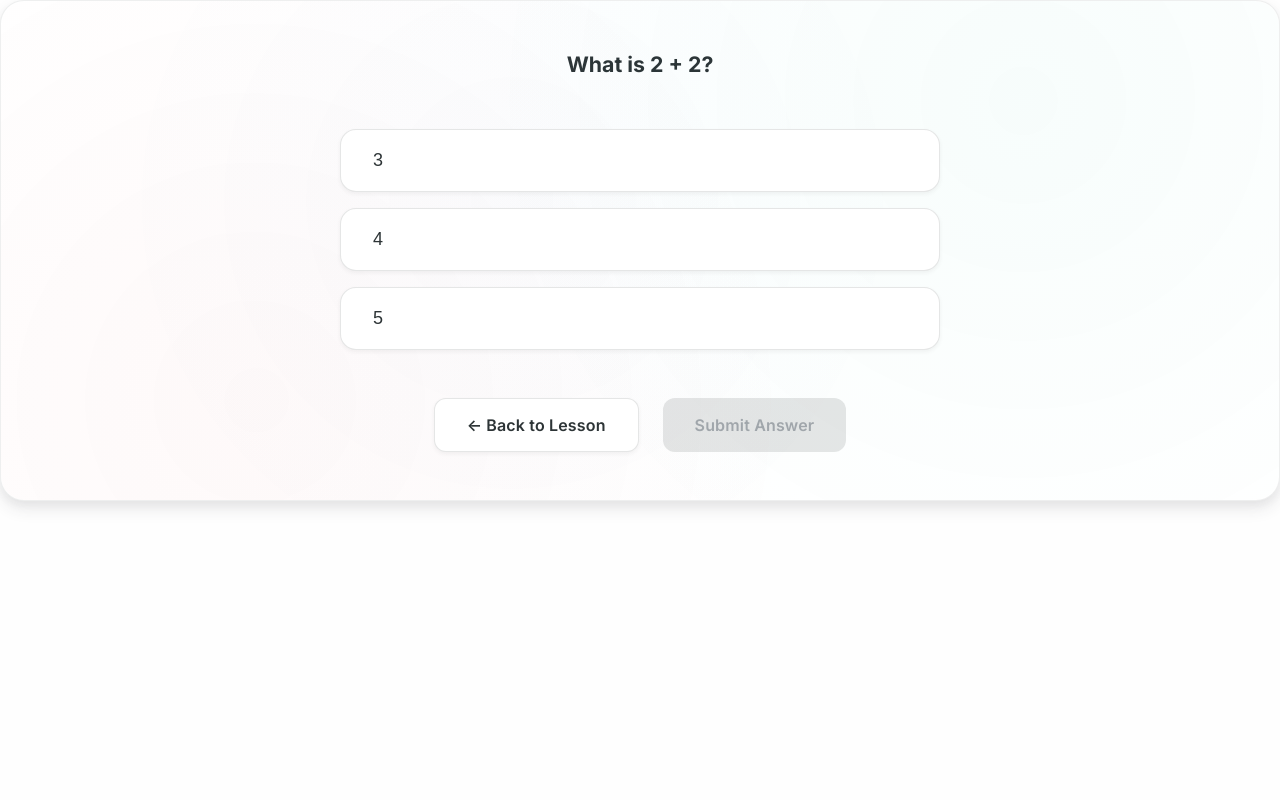
Test: Quiz › should show result when correct answer is submitted
Click the button "4" at (378, 239), box [340,208,940,271]
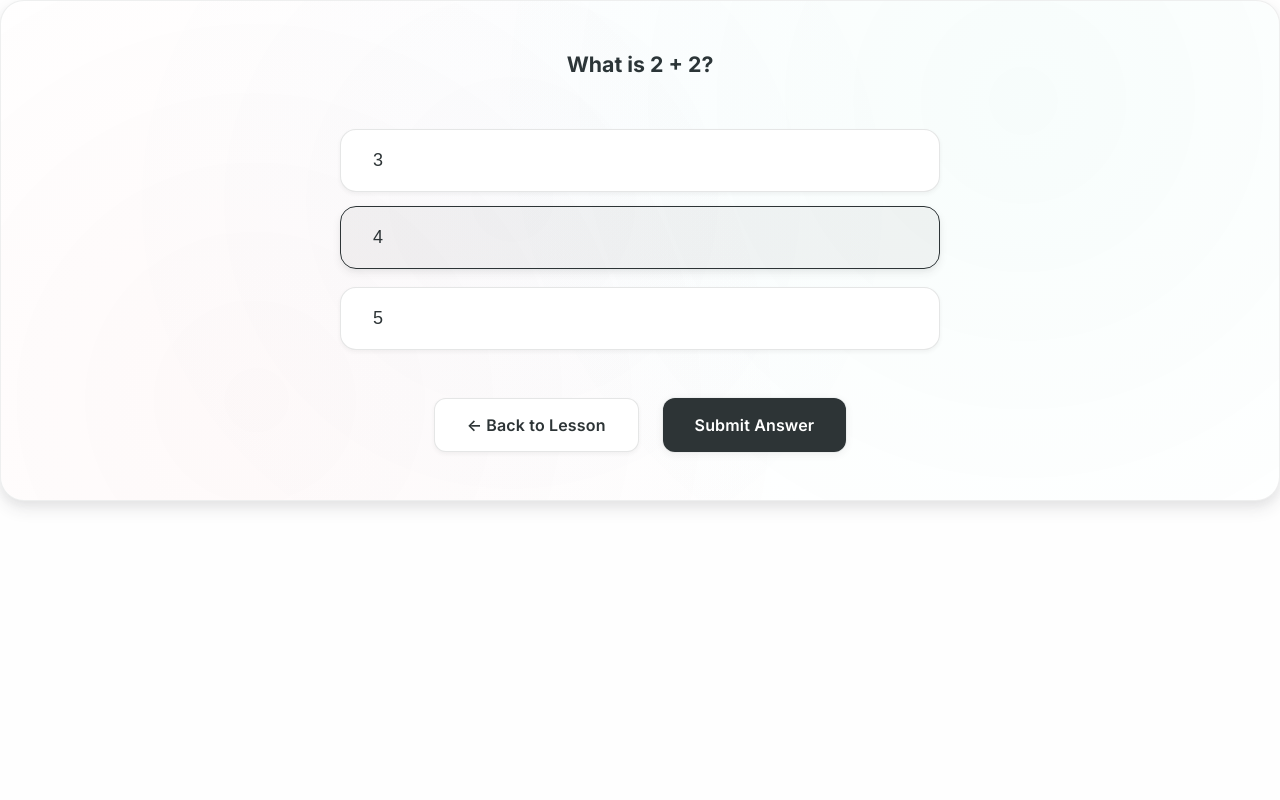
Submit answer
Click the button "Submit Answer" at (754, 425), box [663,398,846,452]
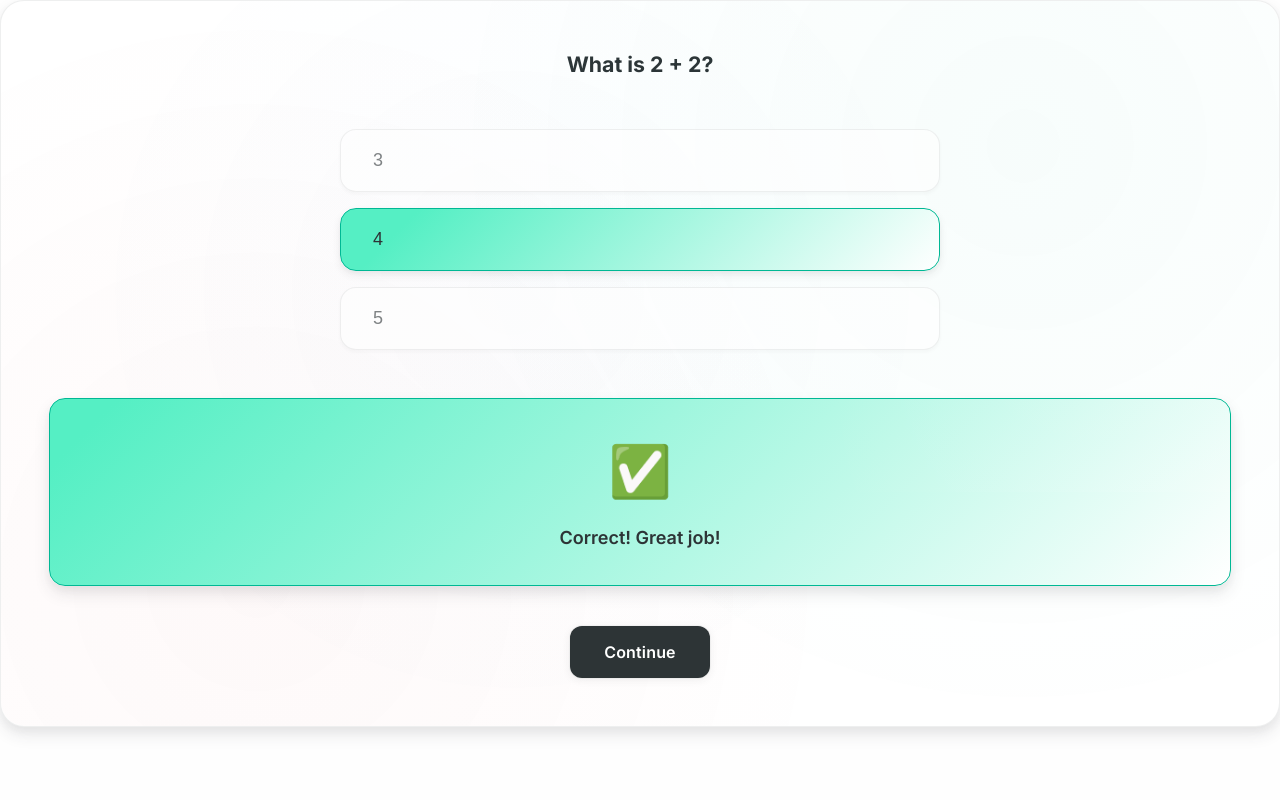
Now the text "Correct! Great job!" is shown, box [560,527,721,548]
Now the text "✅" is shown, box [608,440,672,501]
